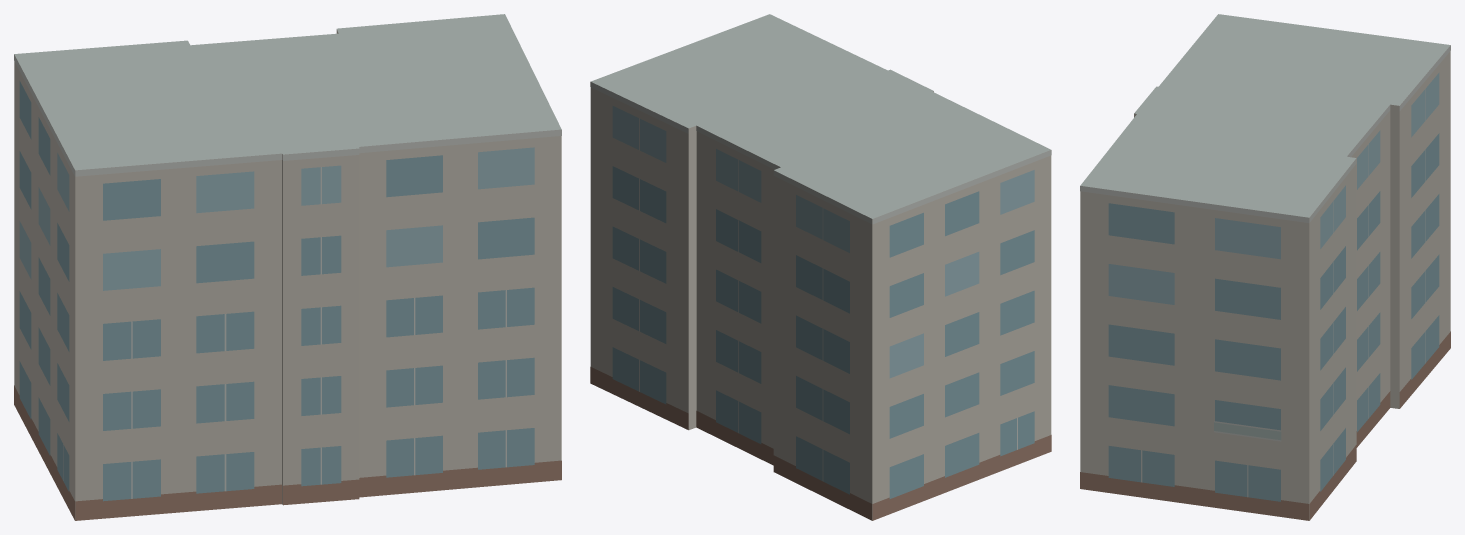
File: survey-upis-32740006.glb
The picture shows the model from 3 angles, left to right: view 1: azimuth 30°, elevation 25°; view 2: azimuth 150°, elevation 25°; view 3: azimuth 270°, elevation 25°; orthographic projection. The views are drawn at different scales.
Visible parts, largest first — view 1: survey-upis-32740006.tmp; view 2: survey-upis-32740006.tmp; view 3: survey-upis-32740006.tmp.
Part boxes in pixels (bbox=[...]): survey-upis-32740006.tmp: bbox=[14, 14, 561, 520]; survey-upis-32740006.tmp: bbox=[590, 14, 1051, 520]; survey-upis-32740006.tmp: bbox=[1080, 14, 1450, 520].
Bounding box in the file's own units: 19.32 × 13.4 × 14.86.
